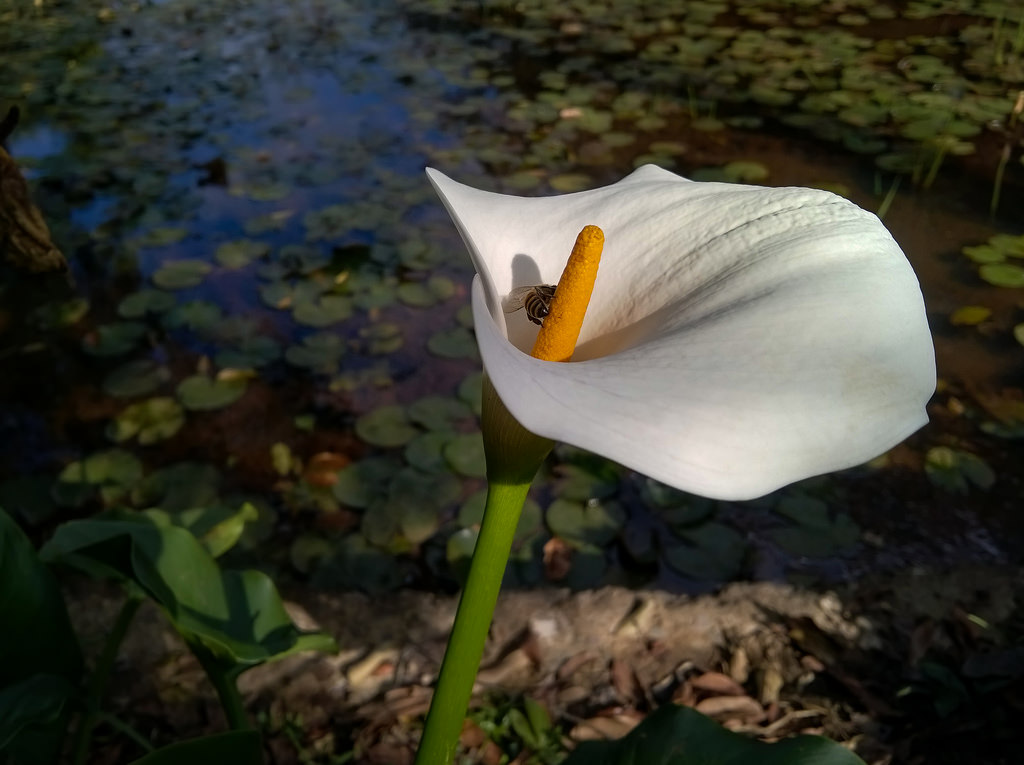plain rice: (724, 266, 806, 436)
